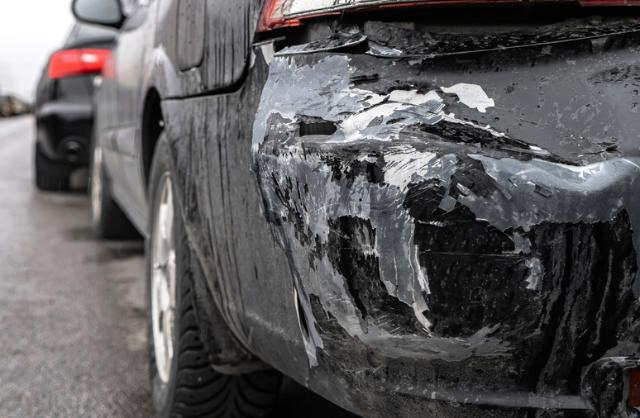Bumper: (232, 82, 600, 410)
